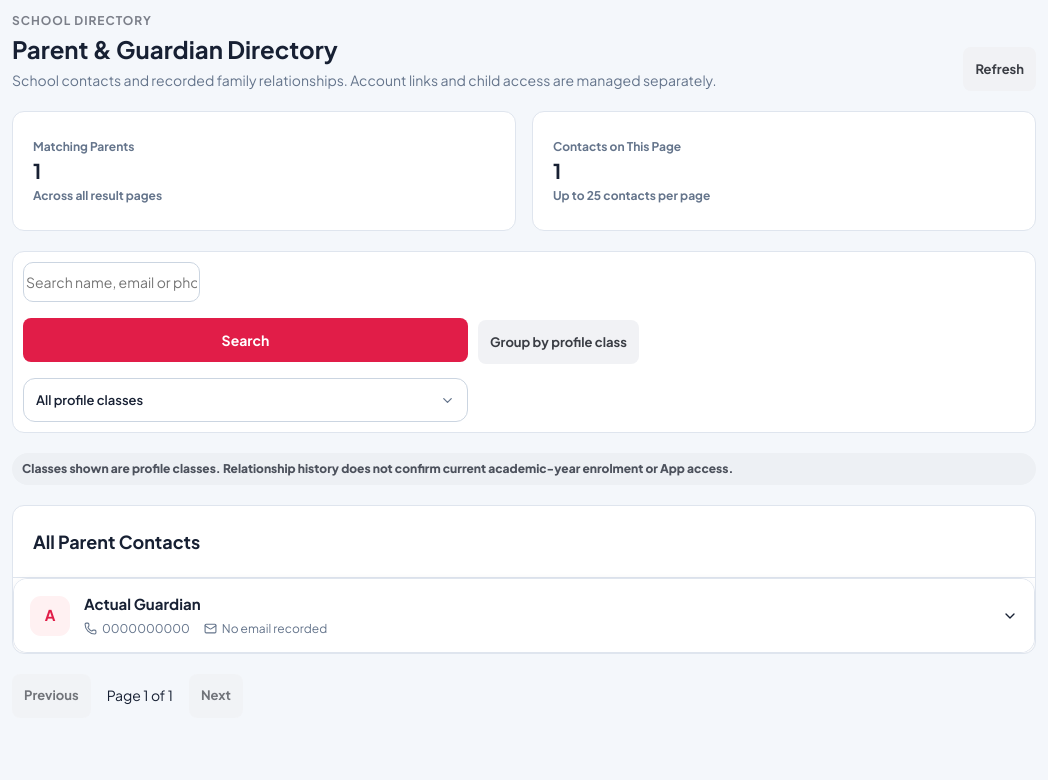
Test: ParentsPage › shows unlinked contacts and empty results, including in class grouping
Expected: the heading "Actual Guardian" is shown, x1=84 y1=594 x2=200 y2=614
Click the button "Group by profile class": {"x": 558, "y": 342} x1=478 y1=320 x2=639 y2=364
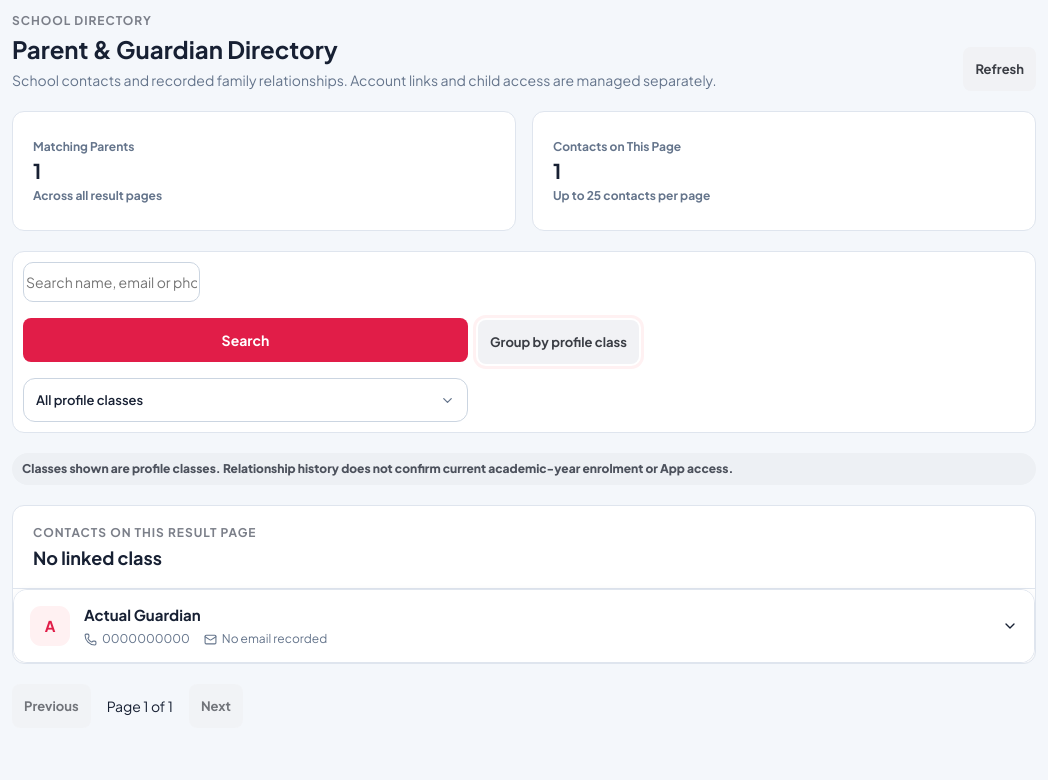
Expected: the heading "No linked class" is shown, x1=33 y1=546 x2=162 y2=570
Click the button "Refresh": {"x": 1000, "y": 70} x1=963 y1=48 x2=1036 y2=92
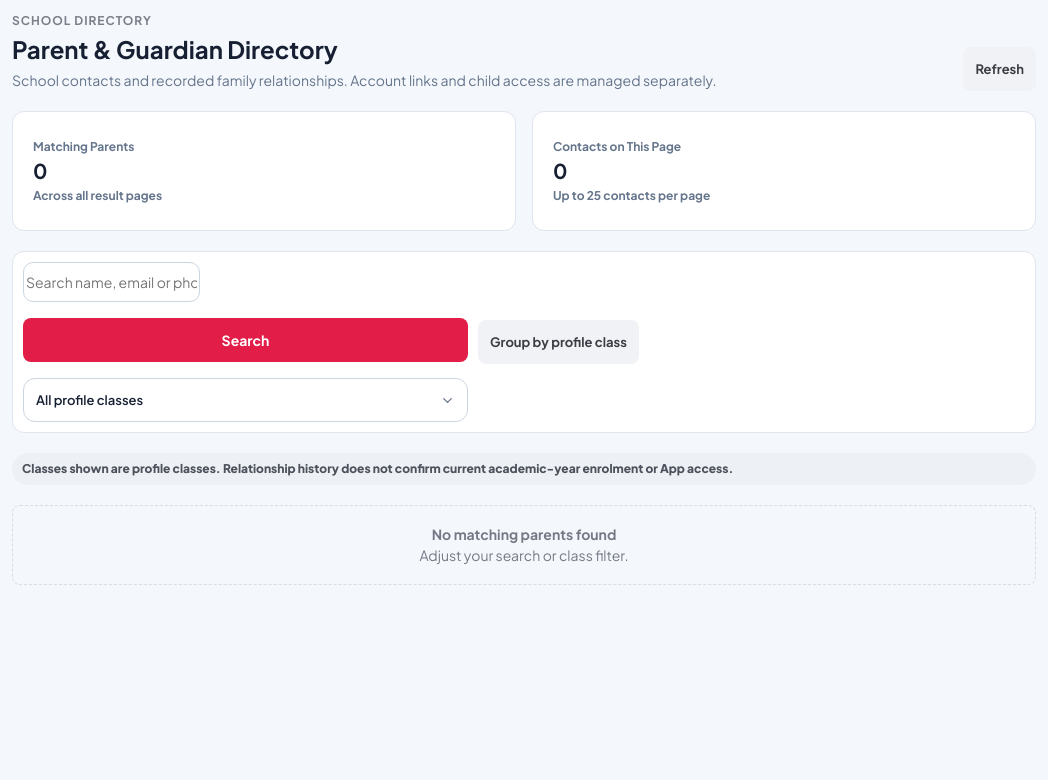
Expected: the text "No matching parents found" is shown, x1=432 y1=526 x2=616 y2=544
